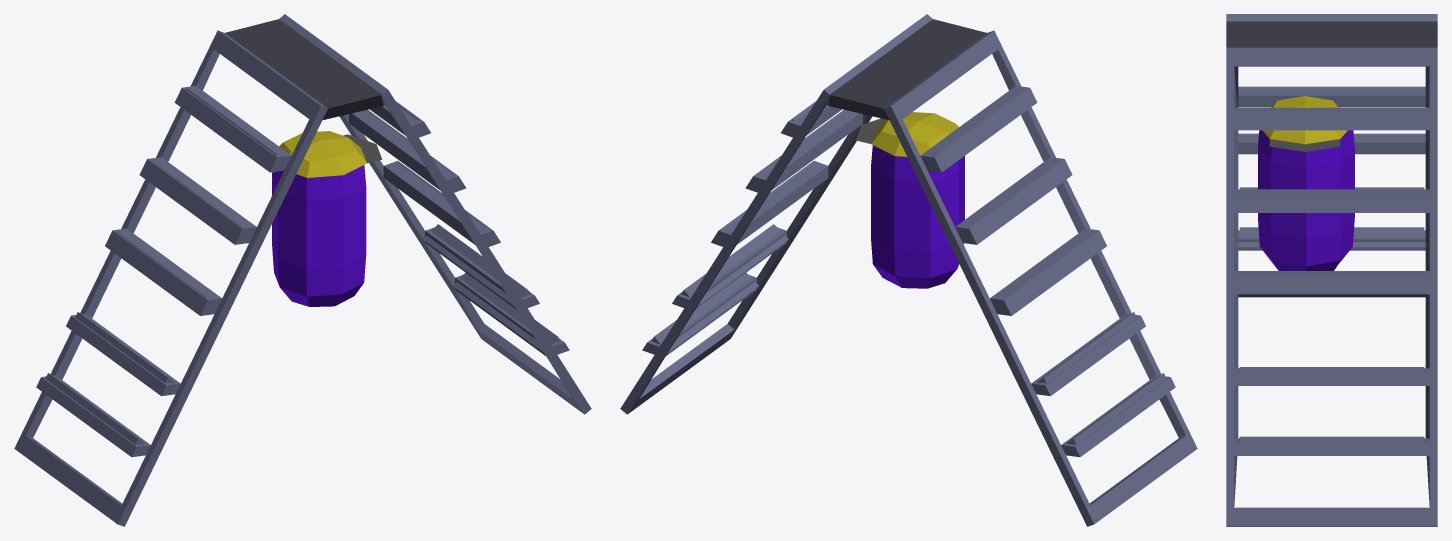
Rendered from bean.glb.
3 renders of one model, left to right at view 1: azimuth 30°, elevation 25°; view 2: azimuth 150°, elevation 25°; view 3: azimuth 270°, elevation 25°, orthographic. The views are drawn at different scales.
Visible parts, largest first — view 1: Plane, Cube, Cube.002; view 2: Plane, Cube, Cube.002; view 3: Plane, Cube, Cube.002.
Part boxes in pixels (box(x1,y1,x2,y2)): Plane: box(14, 14, 591, 526); Cube: box(272, 165, 366, 306); Cube.002: box(279, 131, 382, 177); Plane: box(620, 14, 1197, 526); Cube: box(871, 145, 964, 288); Cube.002: box(856, 112, 958, 156); Plane: box(1226, 14, 1437, 526); Cube: box(1258, 130, 1354, 270); Cube.002: box(1262, 96, 1347, 151).
Size of the model in its own units: 5.29 by 3.98 by 2.
